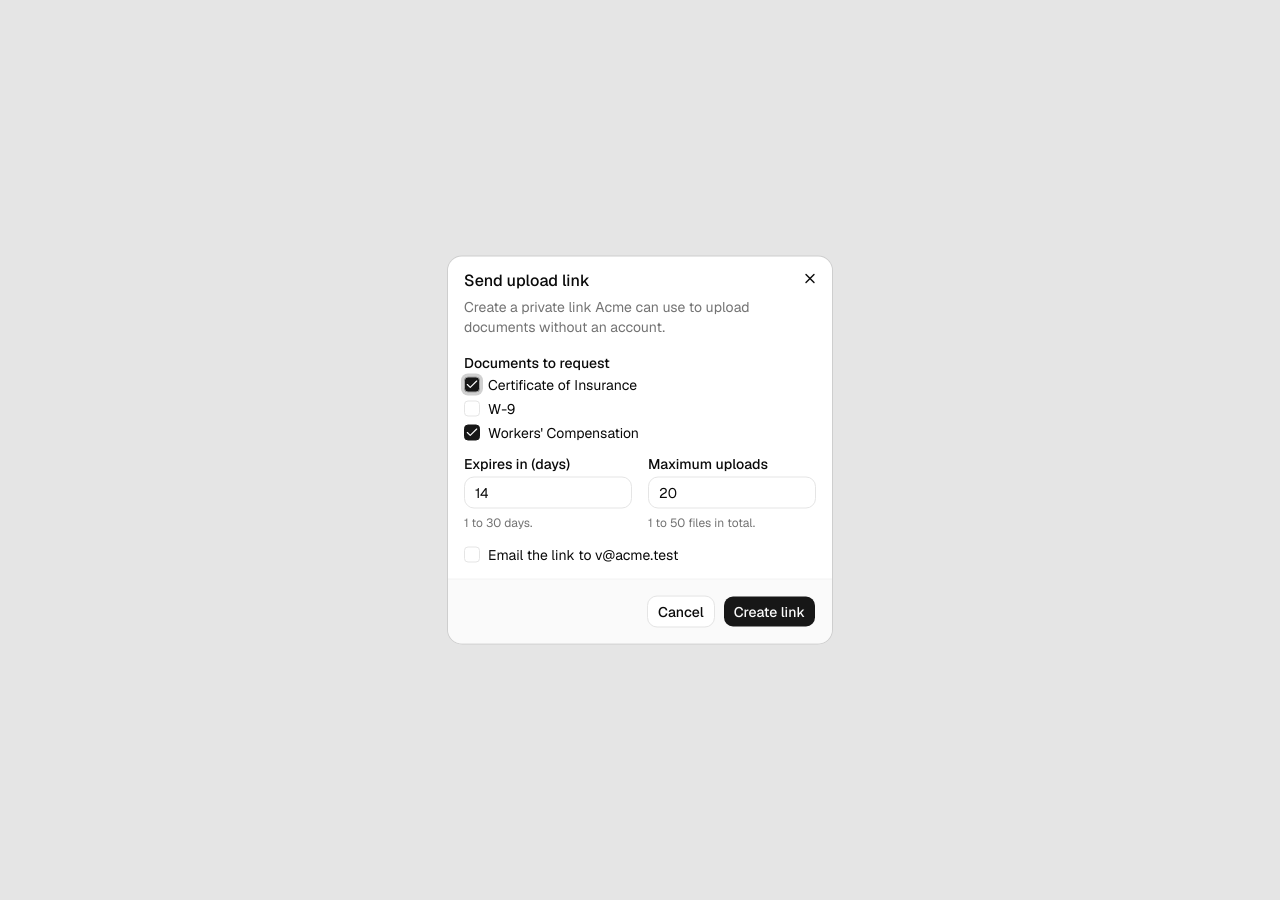
Scenario: SendUploadLinkDialog › validates: at least one type and numeric ranges
Click the checkbox named "Certificate of Insurance" next to "Certificate of Insurance" at (472, 384), box [464,376,480,392]
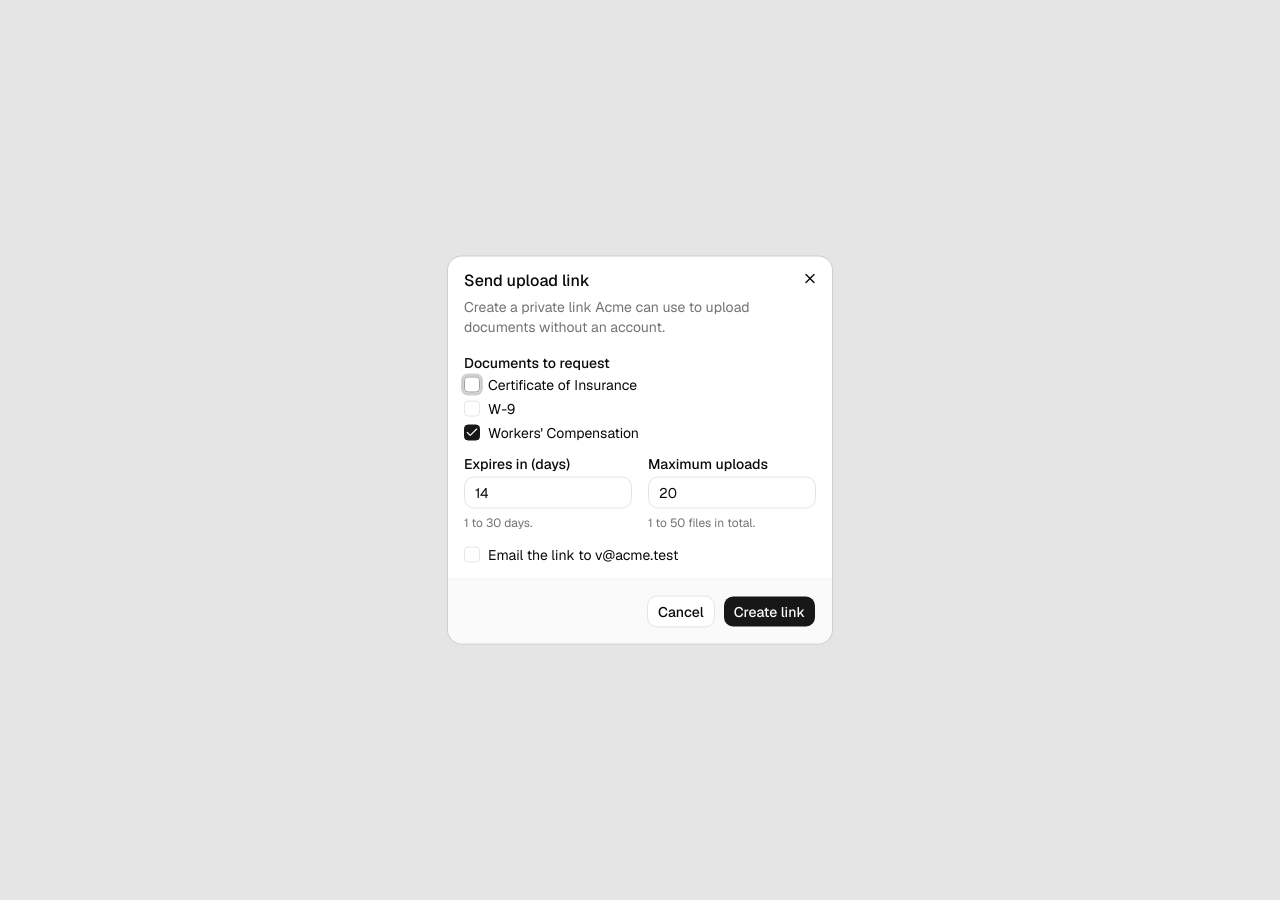
Click the checkbox named "Workers' Compensation" next to "Workers' Compensation" at (472, 432), box [464,424,480,440]
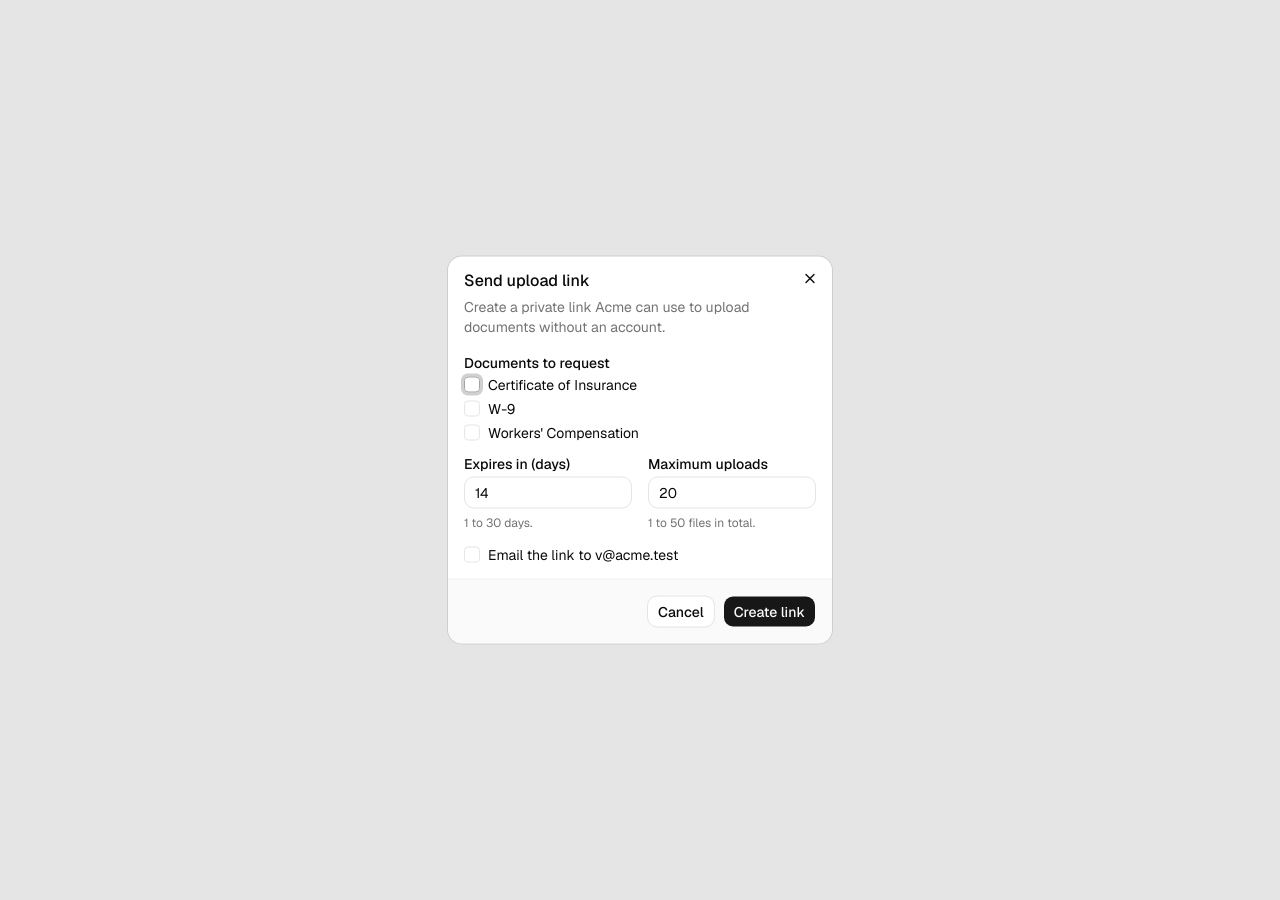
Replace the text in the number field labelled "Expires in (days)" with "45" at (548, 492), box [464,476,632,508]
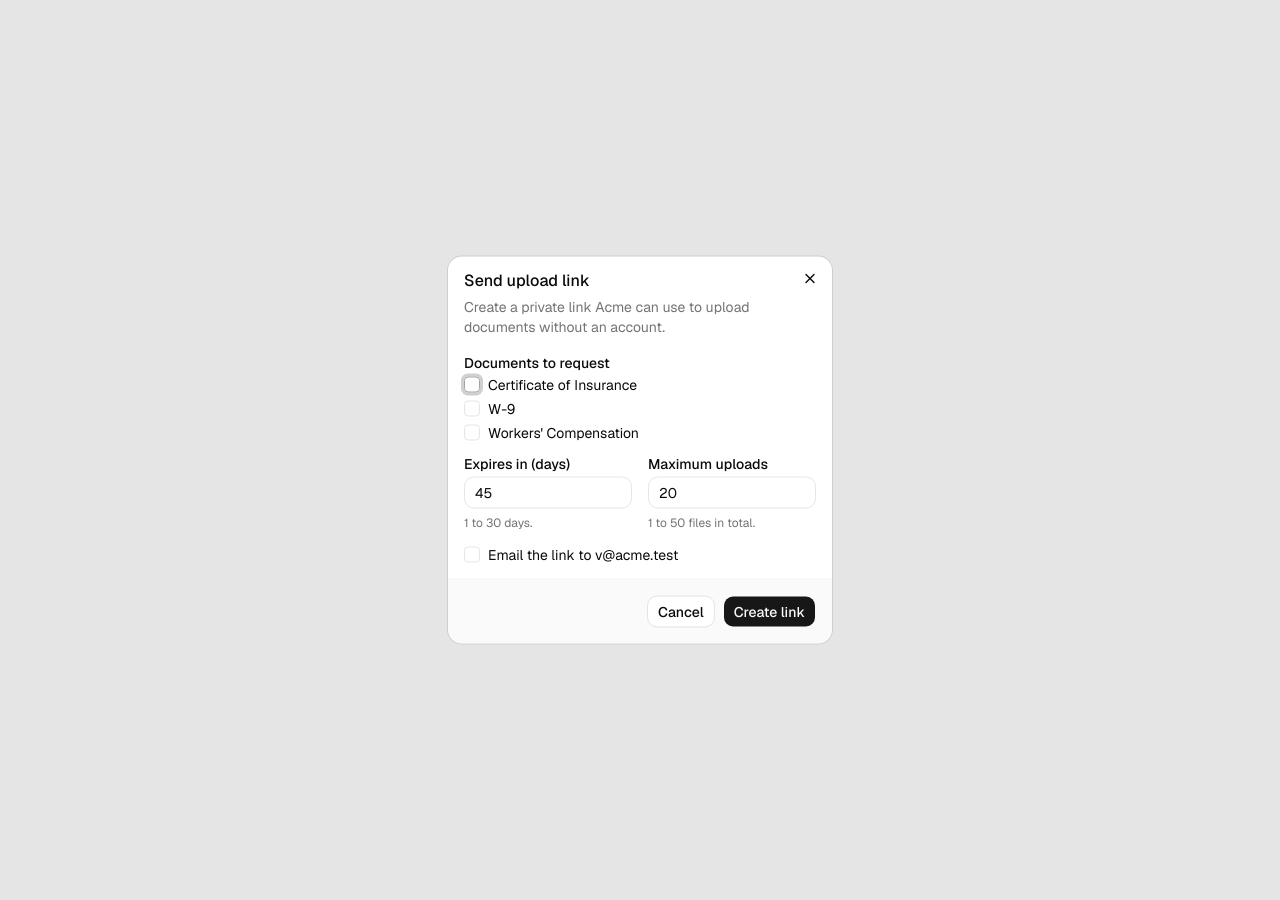
Click the button "Create link" at (769, 612), box [723,596,816,628]
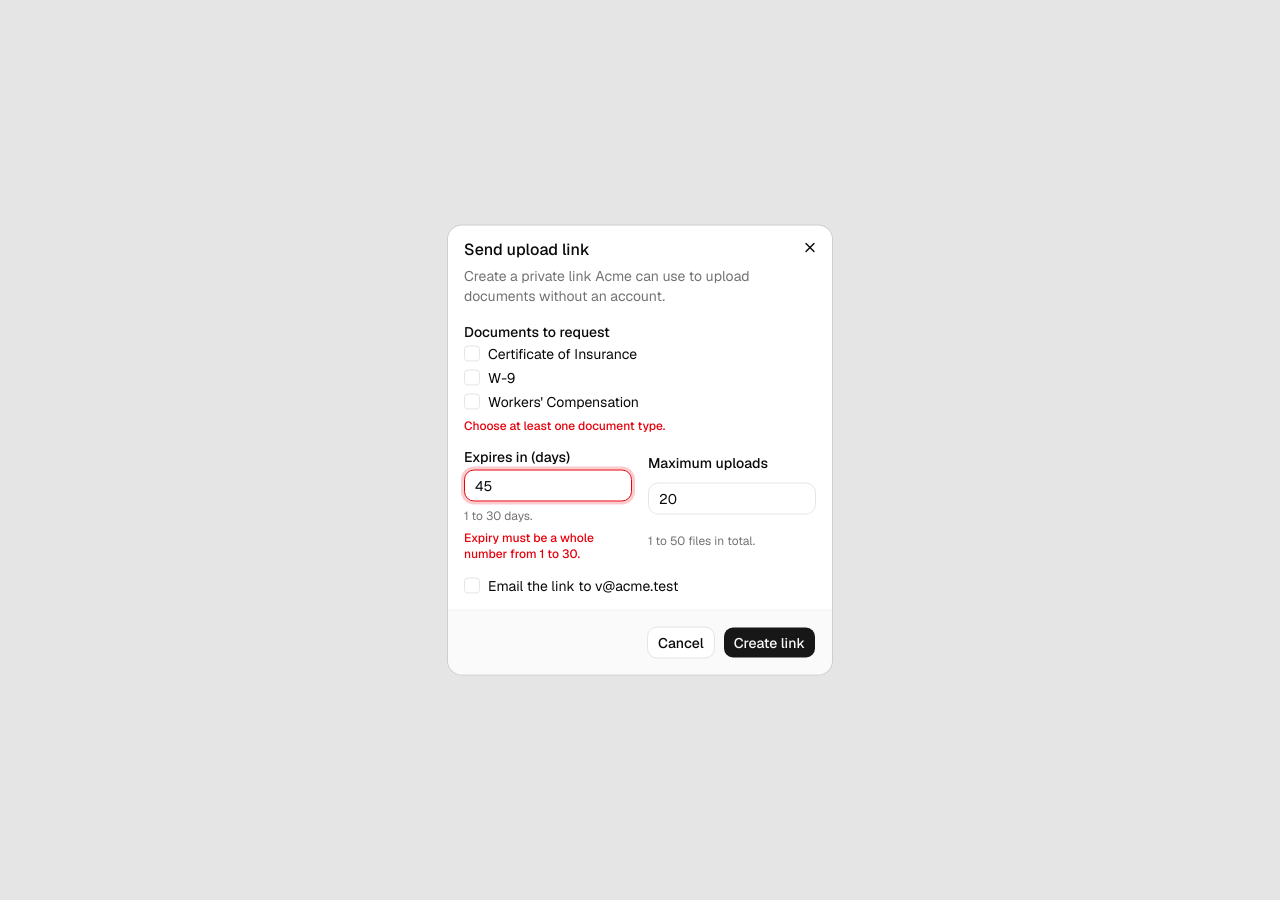
Now the text "Choose at least one document type." is shown, box [464,418,665,434]
Now the text "Expiry must be a whole number from 1 to 30." is shown, box [464,530,594,562]
